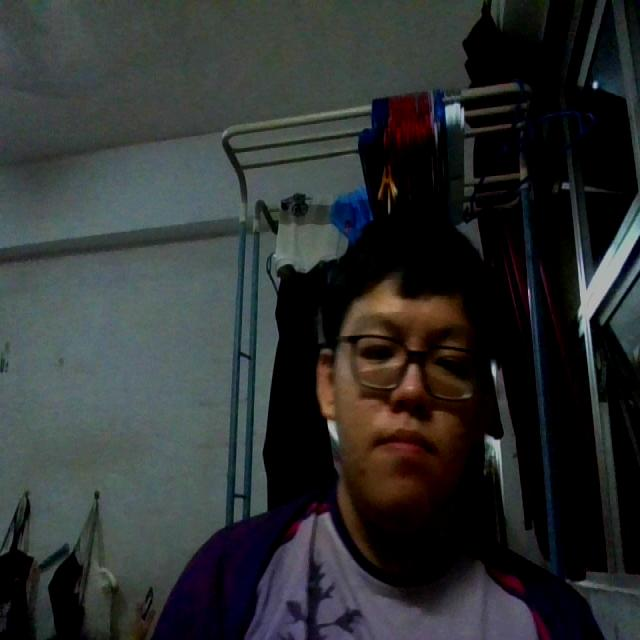person_without_labcoat: (152, 213, 603, 639)
